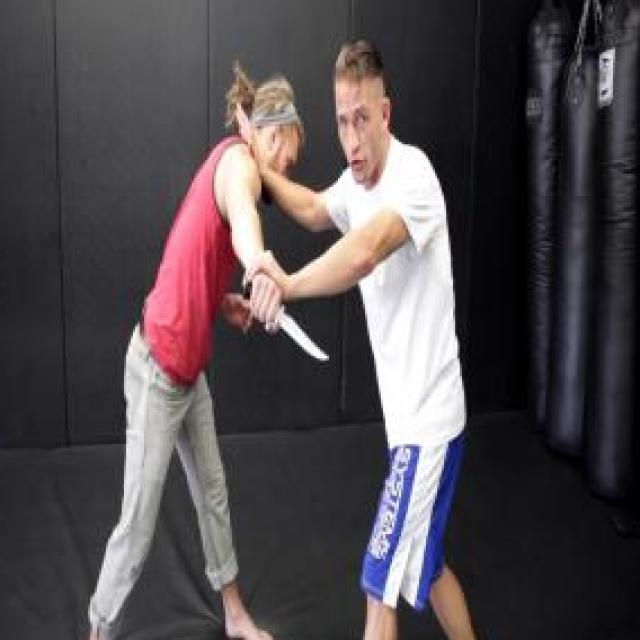knife: (239, 272, 335, 370)
